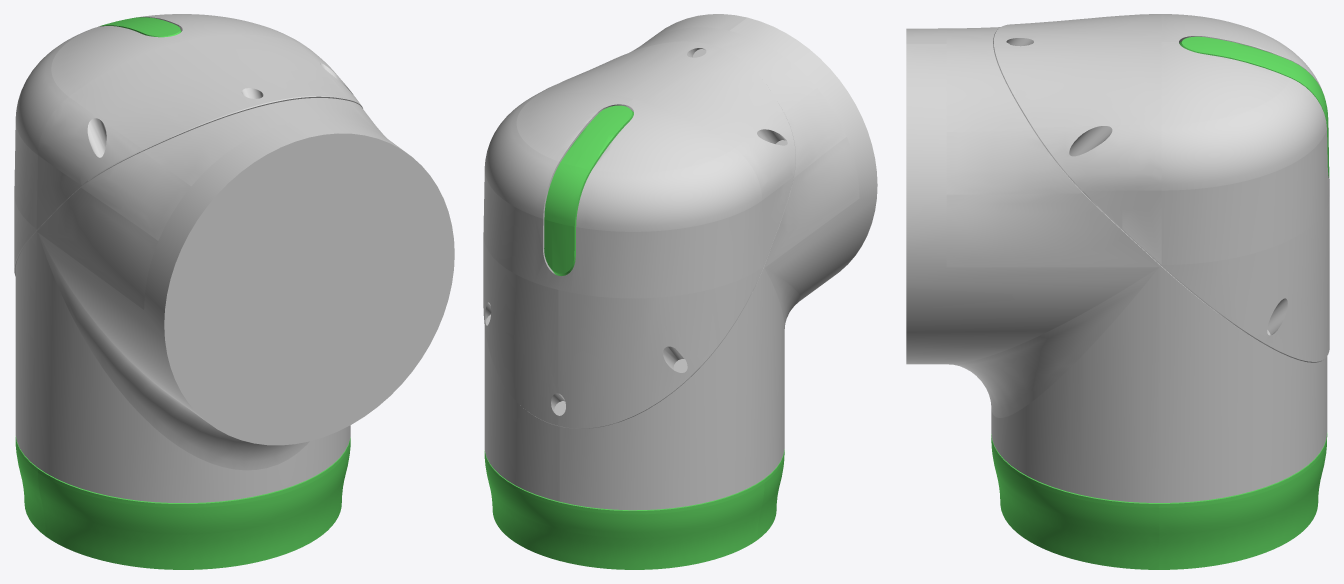
3 views of the same model, side by side, from view 1: azimuth 30°, elevation 25°; view 2: azimuth 150°, elevation 25°; view 3: azimuth 270°, elevation 25° (orthographic). The views are drawn at different scales.
Parts seen in each view (by area): view 1: Mesh_0.009; view 2: Mesh_0.009; view 3: Mesh_0.009.
Boxes of the visible parts, left/top/right/bottom form: Mesh_0.009: left=14, top=14, right=454, bottom=569; Mesh_0.009: left=483, top=14, right=877, bottom=569; Mesh_0.009: left=906, top=14, right=1329, bottom=569.
Size of the model in its own units: 0.158 by 0.1992 by 0.2392.
